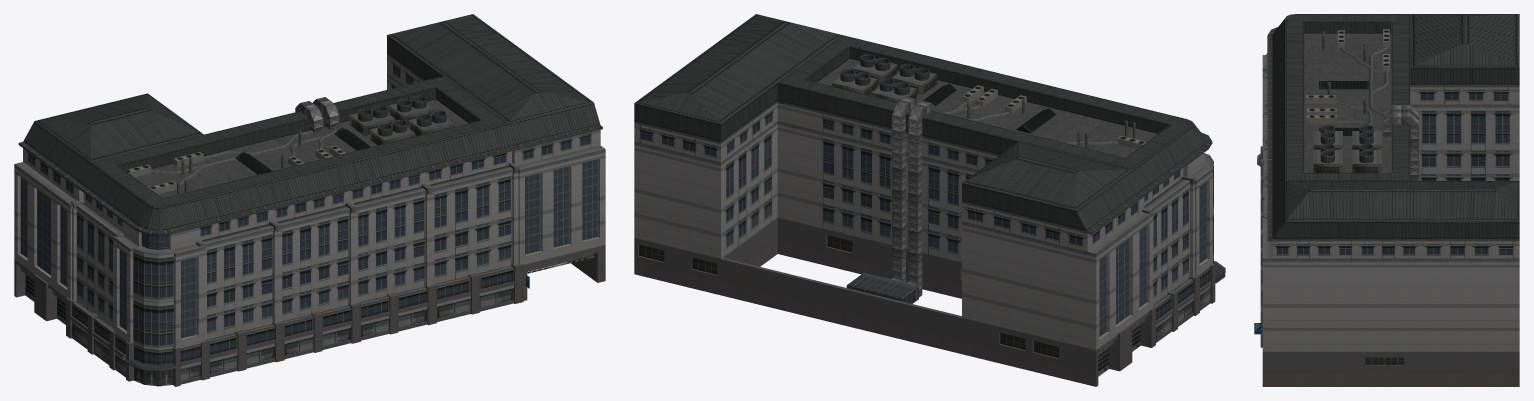
The model's file is office_neighbor.glb.
3 renders of one model, left to right at view 1: azimuth 30°, elevation 25°; view 2: azimuth 150°, elevation 25°; view 3: azimuth 270°, elevation 25°, orthographic. The views are drawn at different scales.
Parts seen in each view (by area): view 1: AIT01W2W4_AIT01W2W4_0; view 2: AIT01W2W4_AIT01W2W4_0; view 3: AIT01W2W4_AIT01W2W4_0.
Part boxes in pixels (x1,y1,x2,y2): AIT01W2W4_AIT01W2W4_0: [14, 14, 605, 386]; AIT01W2W4_AIT01W2W4_0: [634, 14, 1225, 386]; AIT01W2W4_AIT01W2W4_0: [1254, 14, 1519, 386].
Bounding box in the file's own units: 28.38 × 11 × 14.49.
1 material, 1 textured.
